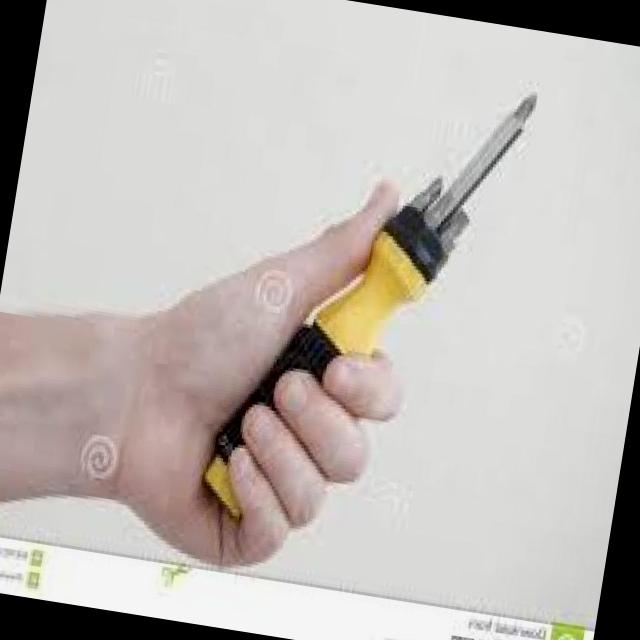screwdriver: (204, 96, 536, 517)
